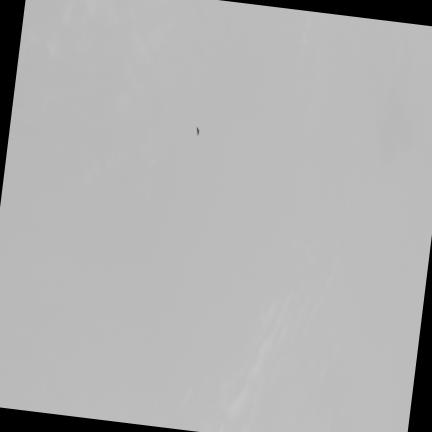Shahed: (195, 126, 200, 134)
